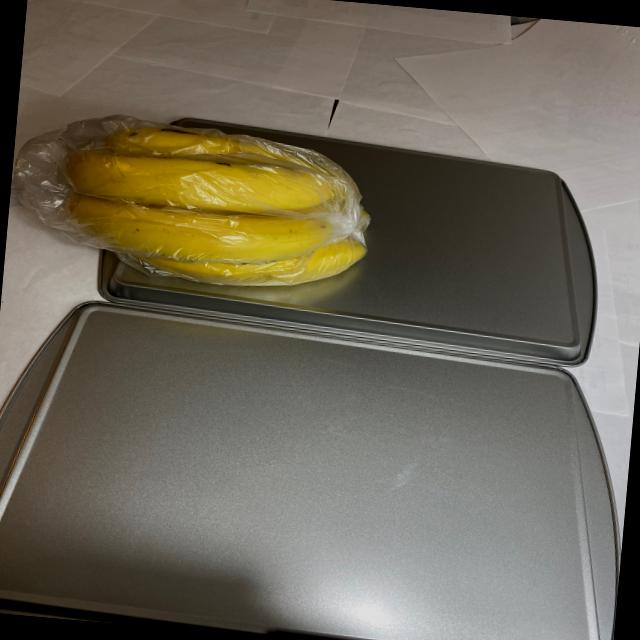banana: (46, 120, 383, 306)
